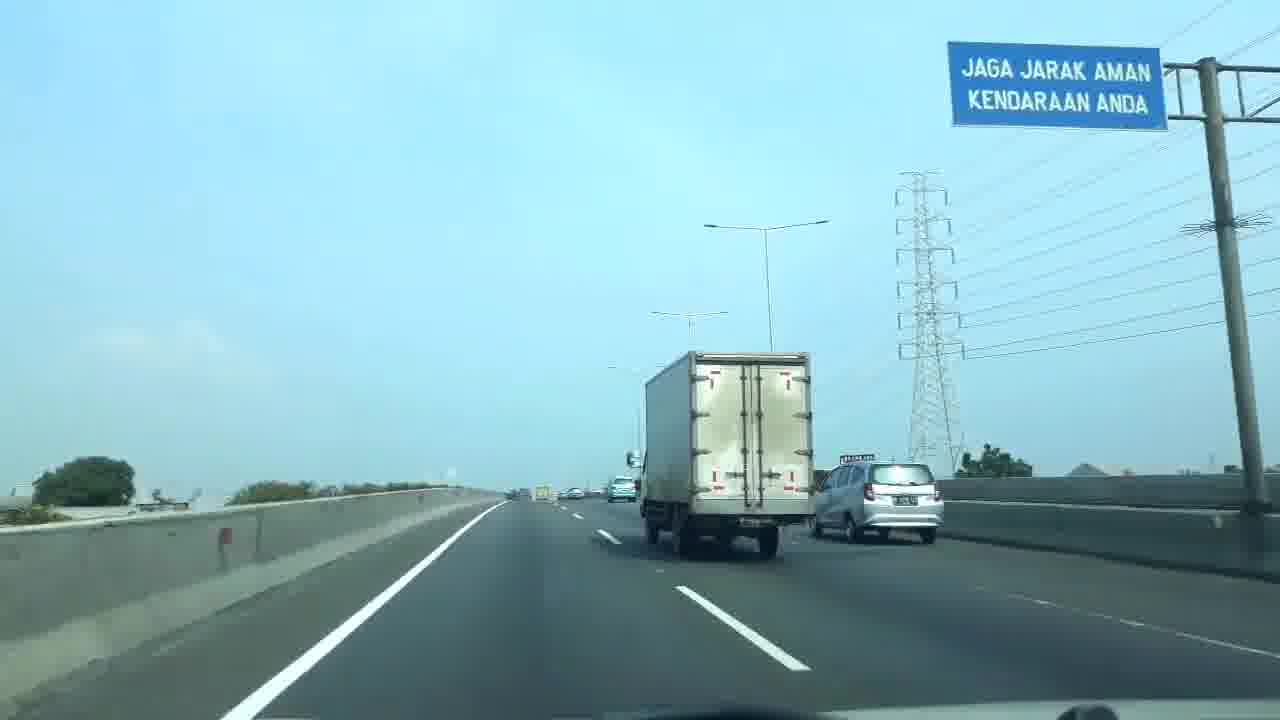plate_positive: (892, 495, 918, 505)
